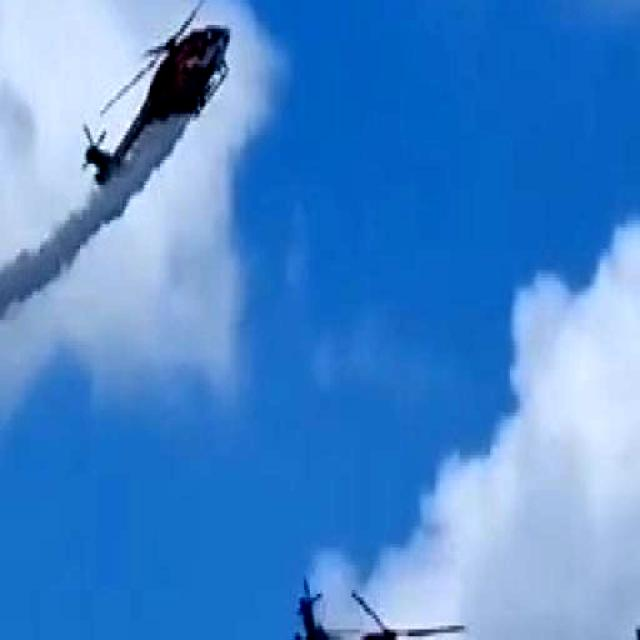drone: (82, 0, 238, 188), (289, 564, 456, 640)
